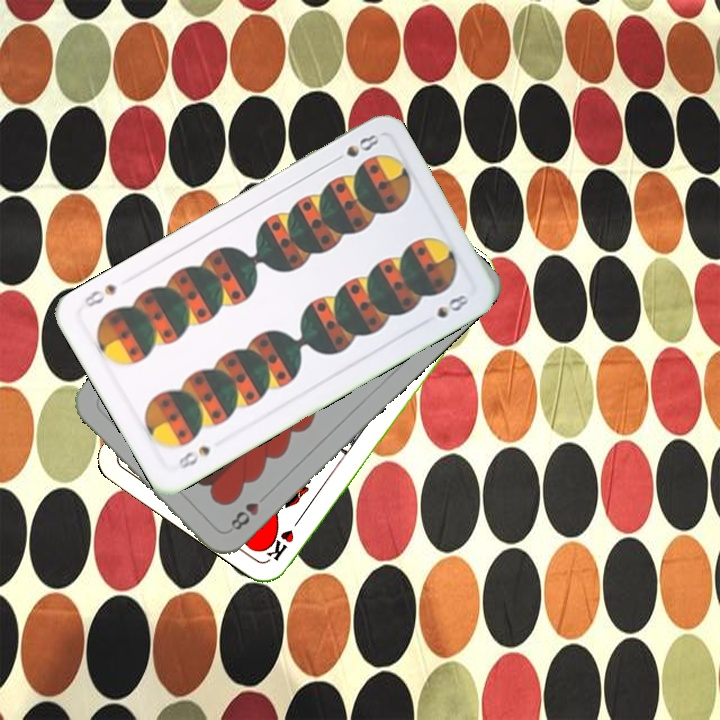H8: (227, 489, 271, 533)
HK: (262, 510, 306, 564)
S8: (172, 441, 213, 474), (342, 130, 382, 160)
